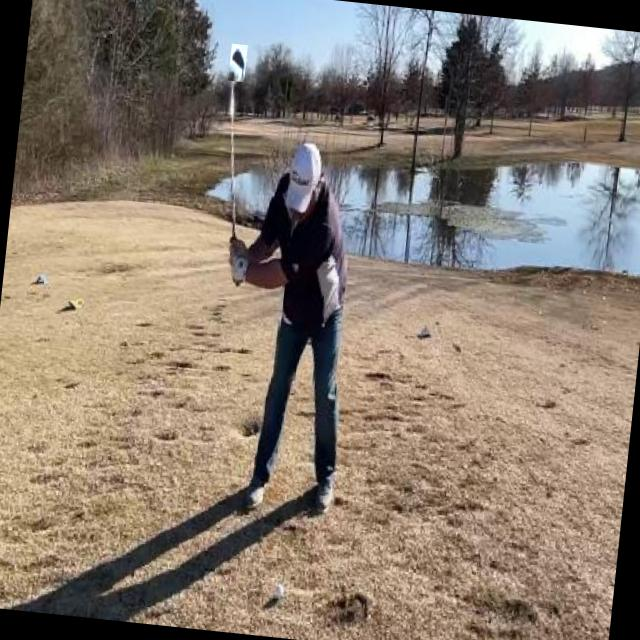club head: (228, 44, 248, 82)
